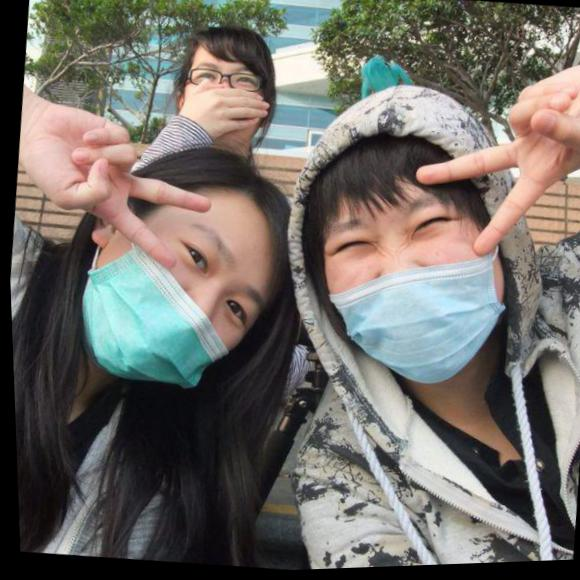NONE: (182, 53, 268, 152)
WRONG: (309, 160, 510, 387), (80, 188, 271, 393)
